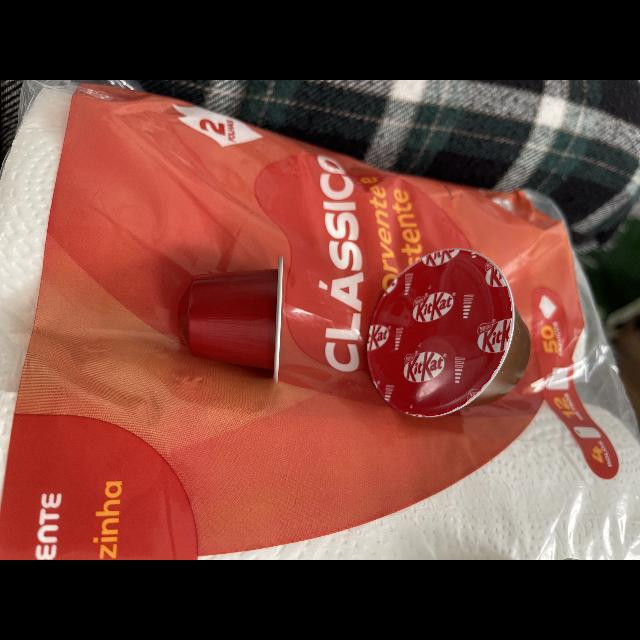intact_capsule: (360, 243, 536, 434), (161, 244, 293, 392)
